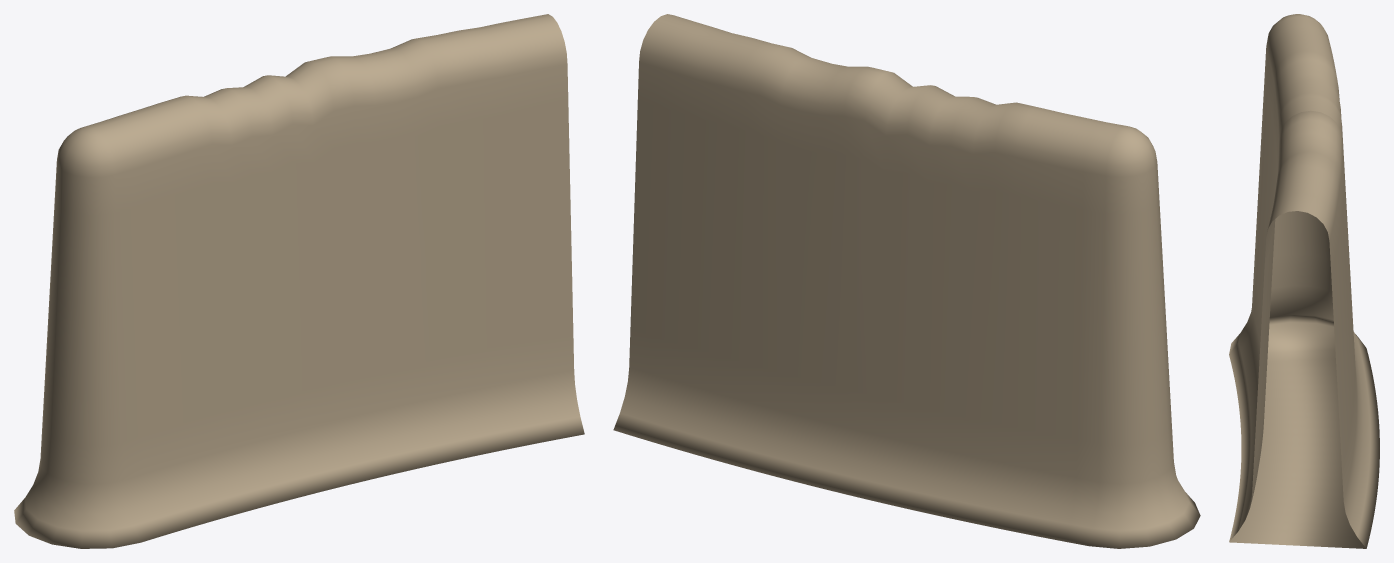
File: KFB_Wall_curved_ring_r5_capB.r1.glb
3 renders of one model, left to right at view 1: azimuth 30°, elevation 25°; view 2: azimuth 150°, elevation 25°; view 3: azimuth 270°, elevation 25°, orthographic. The views are drawn at different scales.
Visible parts, largest first — view 1: KFB_Wall_curved_ring_r5_capB; view 2: KFB_Wall_curved_ring_r5_capB; view 3: KFB_Wall_curved_ring_r5_capB.
Boxes of the visible parts, x1,y1,x2,y2 form: KFB_Wall_curved_ring_r5_capB: [14, 14, 584, 548]; KFB_Wall_curved_ring_r5_capB: [613, 14, 1200, 548]; KFB_Wall_curved_ring_r5_capB: [1229, 14, 1379, 548].
Bounding box in the file's own units: 5.22 × 3.63 × 1.47.
